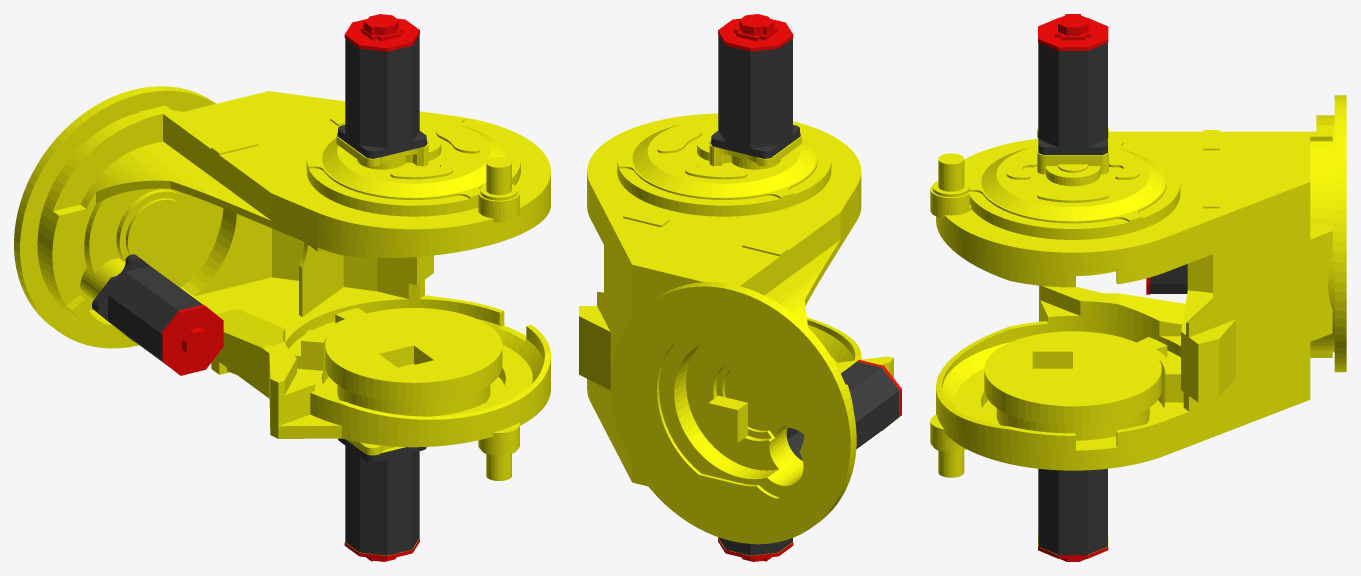
The picture shows the model from 3 angles, left to right: view 1: azimuth 30°, elevation 25°; view 2: azimuth 150°, elevation 25°; view 3: azimuth 270°, elevation 25°; orthographic projection.
Visible parts, largest first — view 1: node; view 2: node; view 3: node.
Part boxes in pixels (bbox=[...]): node: bbox=[14, 14, 550, 561]; node: bbox=[579, 14, 901, 561]; node: bbox=[930, 14, 1346, 561].
Size of the model in its own units: 1093 by 1462 by 1032.
